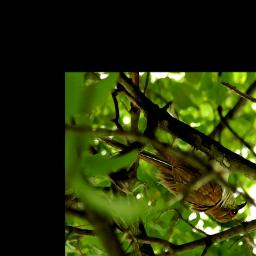Cuckoo: (96, 135, 248, 225)
